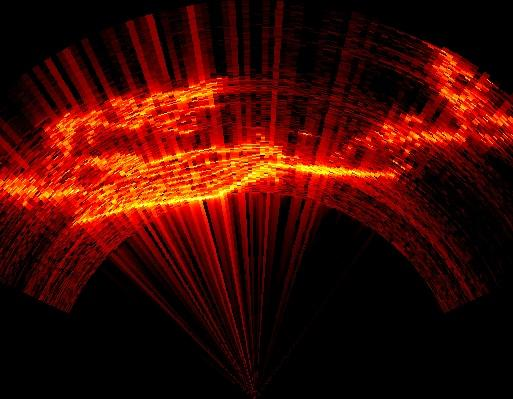shipwreck: (4, 48, 512, 224), (46, 78, 226, 151)
